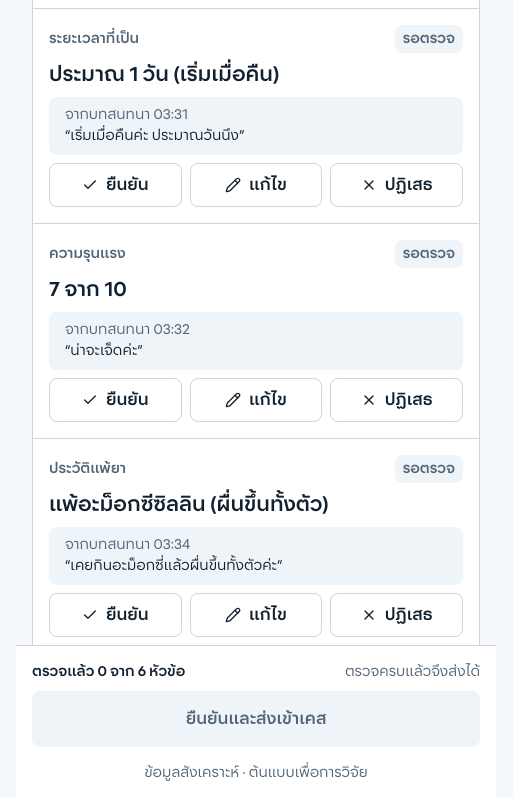
Scenario: review decisions › edit shows ระบบได้ยินว่า: <original>
The image size is (513, 798).
(page scrolled)
Click the button "แก้ไข" below "ความรุนแรง".
click(256, 400)  # box top-left (190, 378), bottom-right (322, 422)
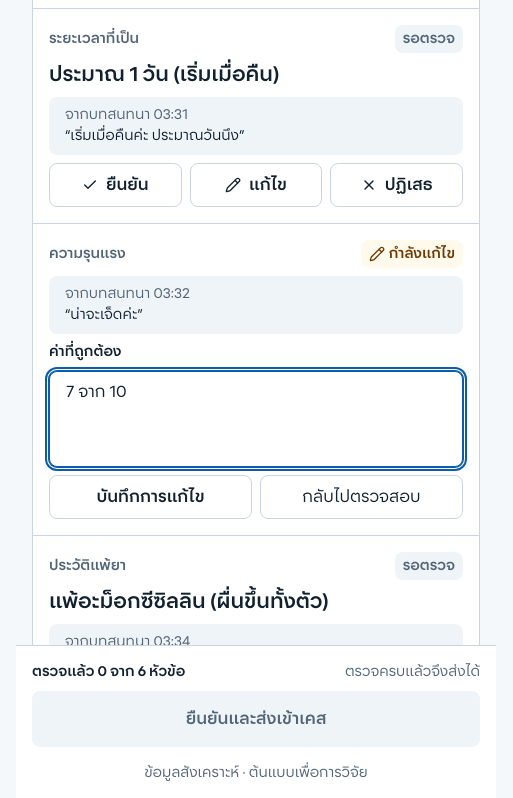
Replace the text in the text box labelled "ค่าที่ถูกต้อง" with "8 จาก 10" at (256, 419), box top-left (49, 371), bottom-right (463, 467)
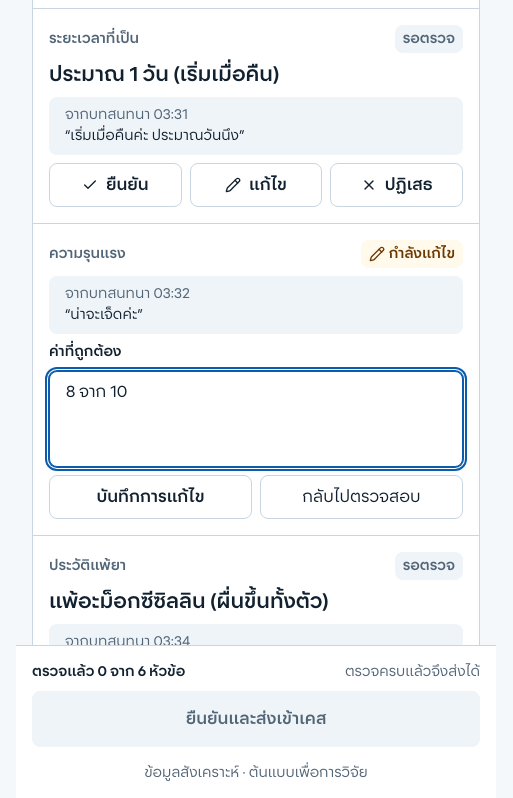
Click the button "บันทึกการแก้ไข".
click(150, 497)  # box top-left (49, 475), bottom-right (252, 519)
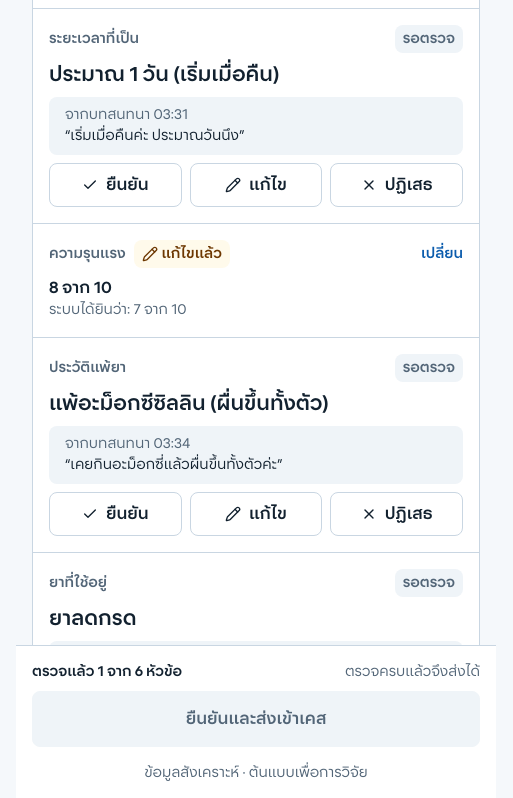
Expected: the text "8 จาก 10" is shown, top-left (49, 280), bottom-right (112, 296)
Expected: the text "แก้ไขแล้ว" is shown, top-left (134, 240), bottom-right (230, 268)
